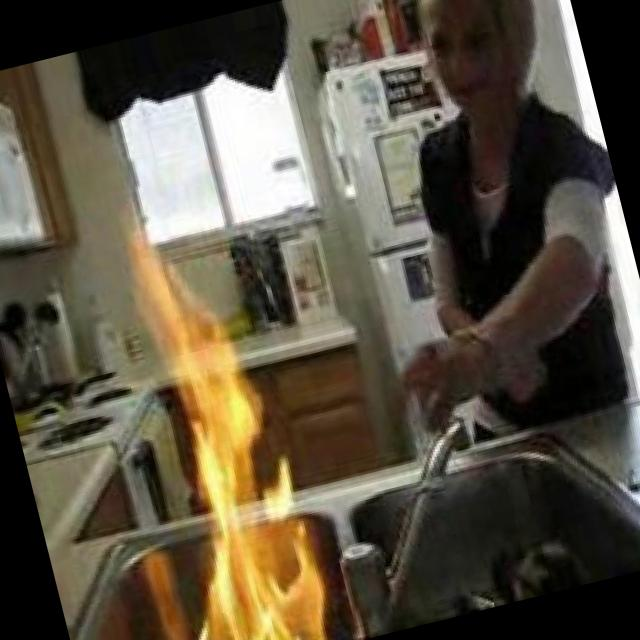Fire: (105, 205, 336, 640)
